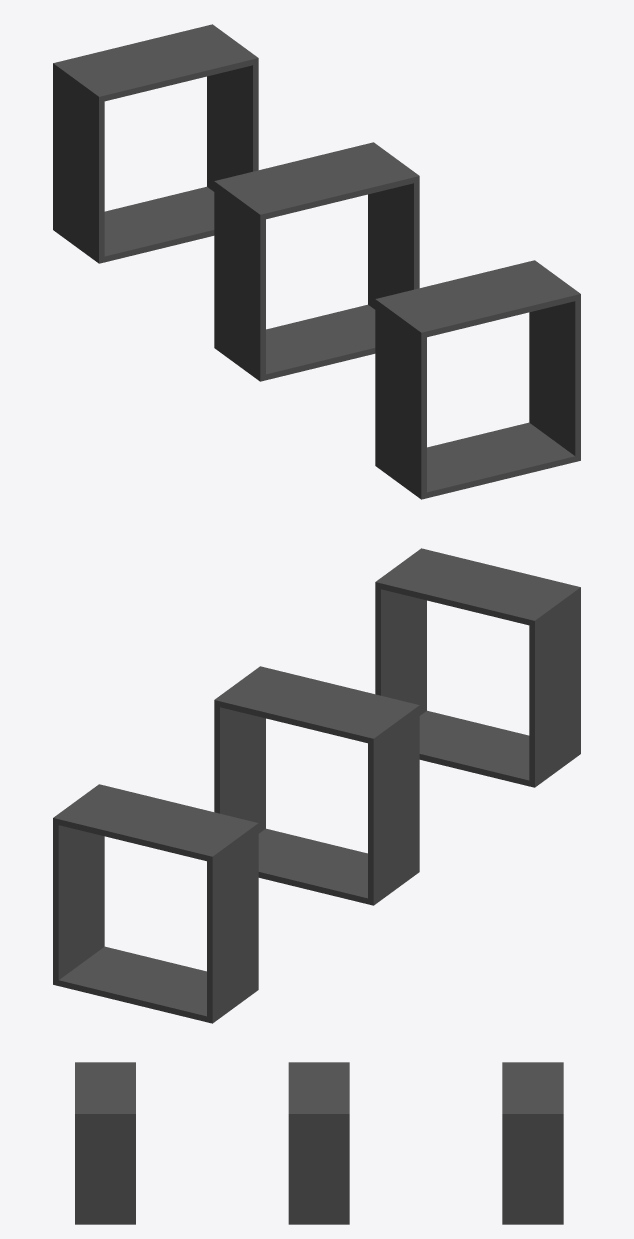
File: shell_holder_5.fbx
The picture shows the model from 3 angles, top to bottom: view 1: azimuth 30°, elevation 25°; view 2: azimuth 150°, elevation 25°; view 3: azimuth 270°, elevation 25°; orthographic projection. The views are drawn at different scales.
Parts seen in each view (by area): view 1: Cylinder; view 2: Cylinder; view 3: Cylinder.
Boxes of the visible parts, x1,y1,x2,y2 form: Cylinder: (53, 24, 580, 499); Cylinder: (53, 548, 580, 1023); Cylinder: (75, 1062, 563, 1224).
Bounding box in the file's own units: 100 × 100 × 496.
